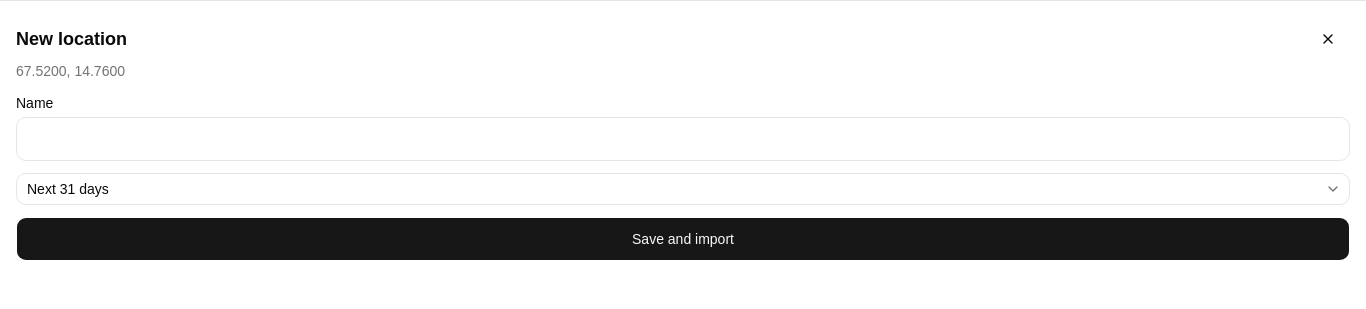
Test case: NewLocationCard › shows the name's validation errors
This screenshot has width=1366, height=309.
Type "Kjerringøy" into the field labelled "Name" at (683, 139), box [16, 117, 1350, 161]
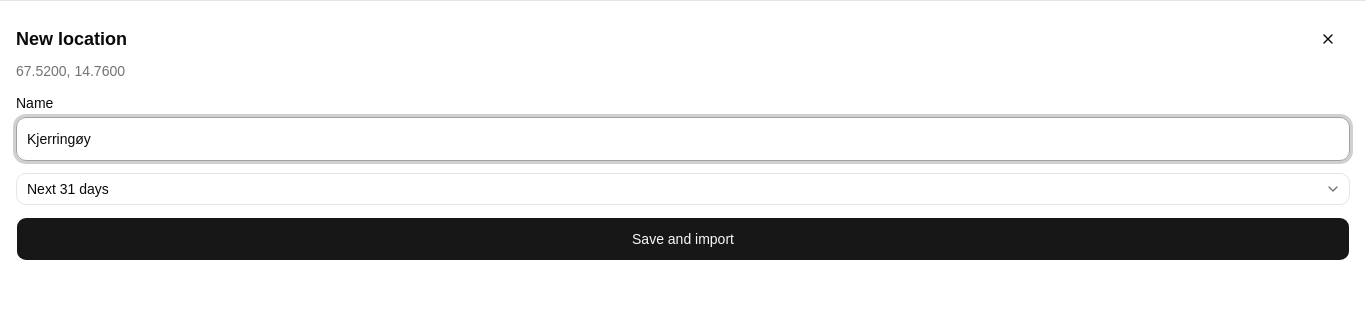
Click the button "Save and import" at (683, 239), box [16, 217, 1350, 261]
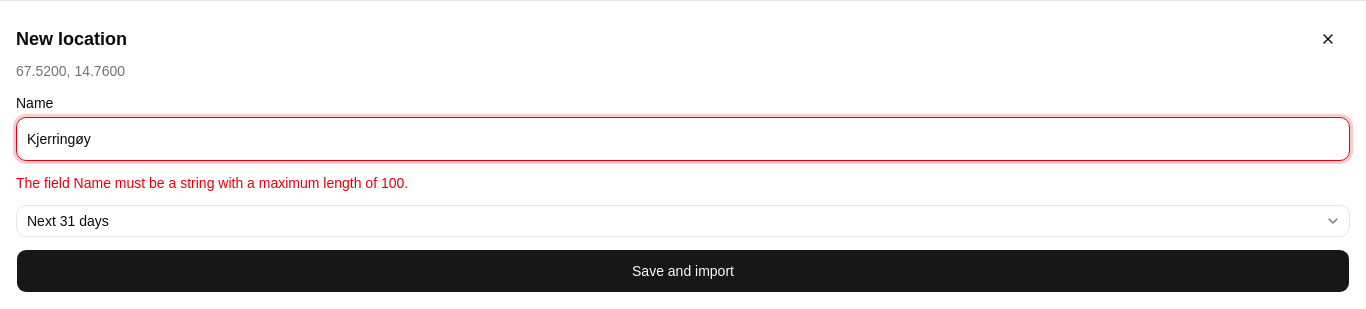
Expected: the text "The field Name must be a string with a maximum length of 100." is shown, [16, 175, 408, 191]
